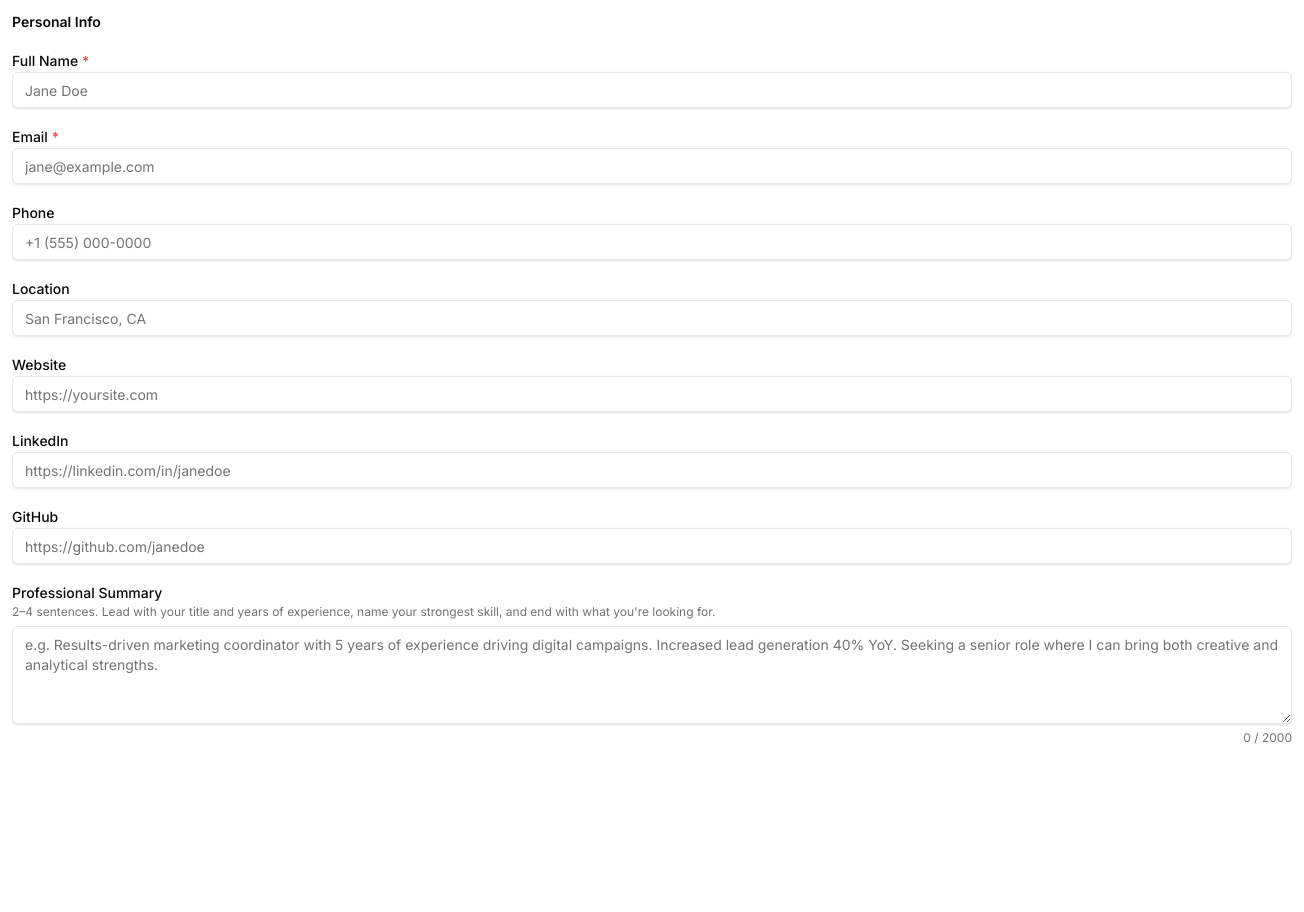
Test case: PersonalInfoForm — email blur validation › shows error when email is invalid format
Type "not-an-email" into the field with id "email" at [652, 166], box [12,148,1292,184]
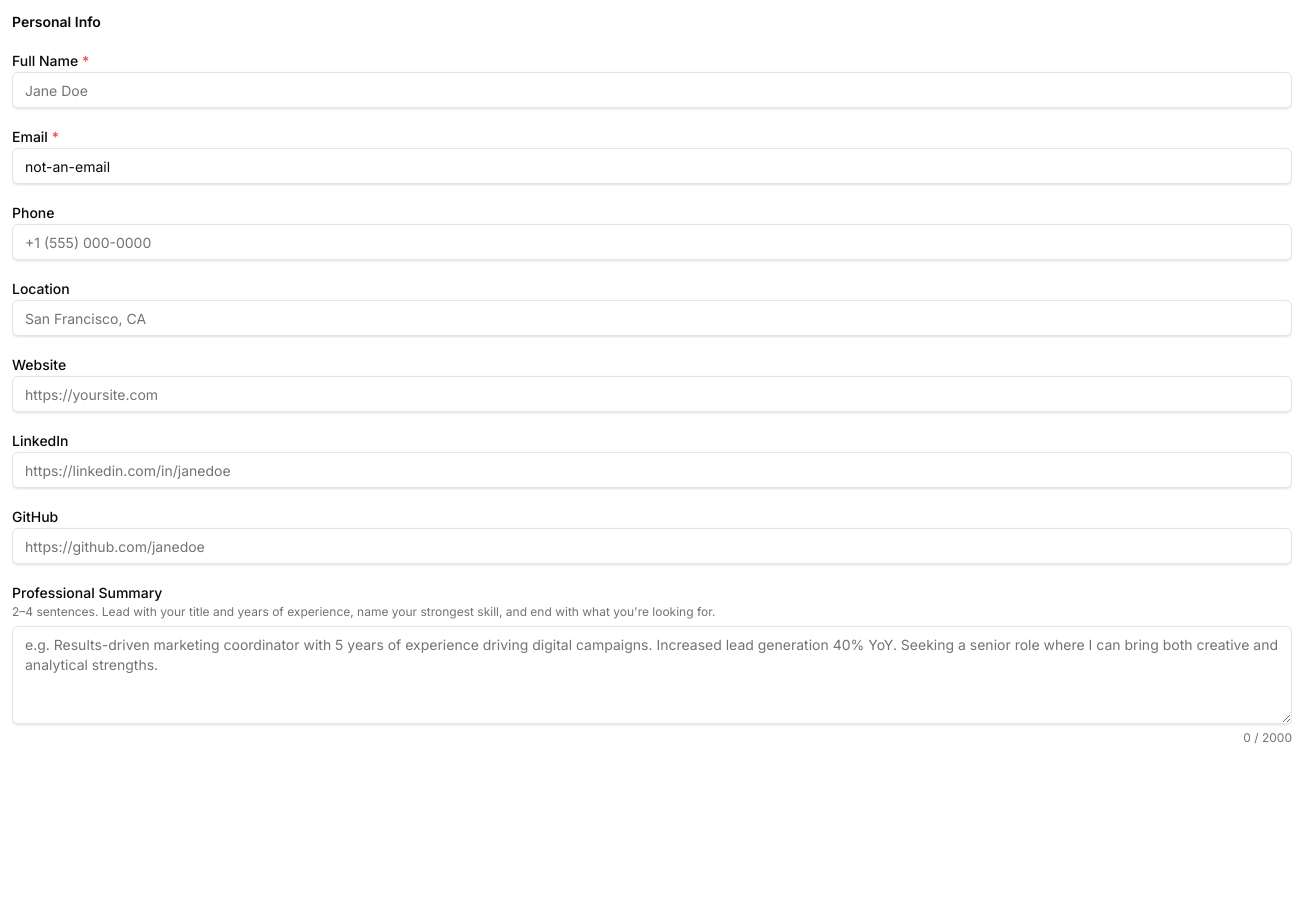
Leave the field with id "email", box [12,148,1292,184]
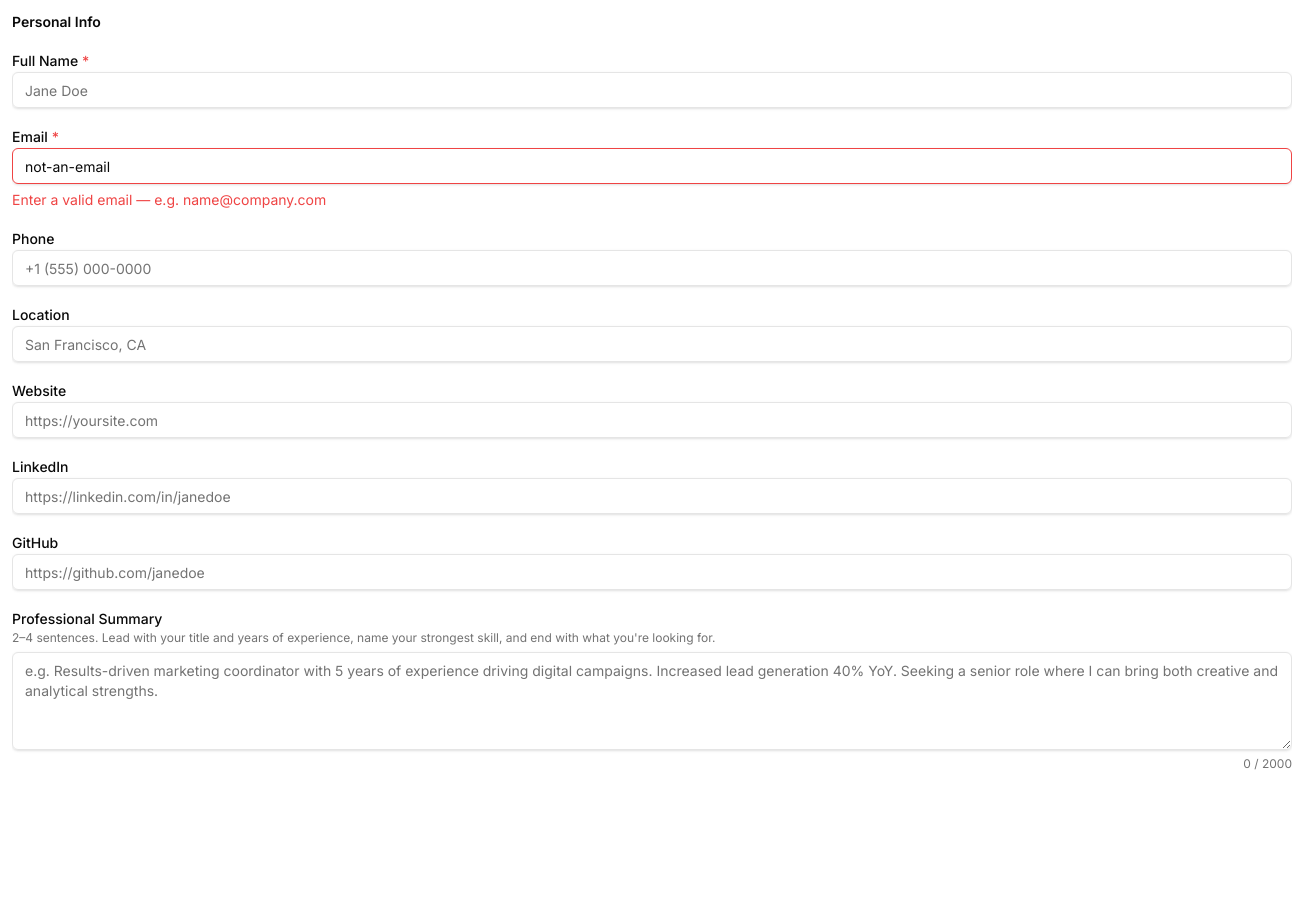
Expected: the text "Enter a valid email — e.g. name@company.com" is shown, [12,191,326,208]
